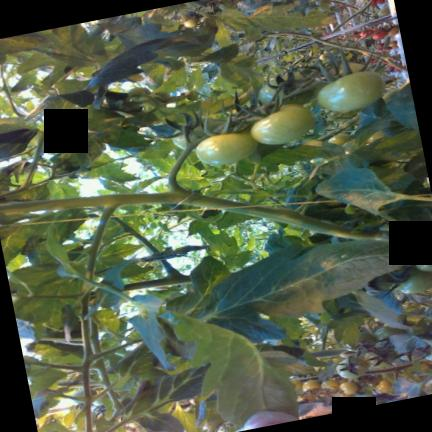6kp_peduncle: (133, 147, 204, 205)
6kp_petiole: (70, 193, 147, 238), (144, 258, 192, 288)
MainStem: (0, 192, 378, 238), (124, 274, 191, 290)
tomato: (317, 71, 384, 111), (250, 103, 314, 144), (257, 71, 317, 104), (196, 133, 257, 165), (172, 118, 224, 149), (396, 268, 432, 293), (336, 357, 368, 378), (362, 350, 396, 369), (375, 325, 407, 344), (346, 331, 374, 346), (330, 62, 364, 74), (71, 389, 95, 403), (329, 132, 351, 145), (366, 130, 385, 143), (339, 381, 358, 394), (375, 379, 392, 392), (415, 258, 432, 270), (321, 379, 339, 390), (302, 379, 320, 390), (342, 139, 356, 153), (184, 17, 198, 27), (372, 30, 387, 39), (93, 395, 106, 405), (317, 2, 330, 11), (292, 379, 302, 390), (388, 26, 399, 36), (378, 6, 389, 15), (325, 114, 337, 120), (319, 53, 328, 60), (330, 49, 340, 55), (425, 352, 432, 360)
